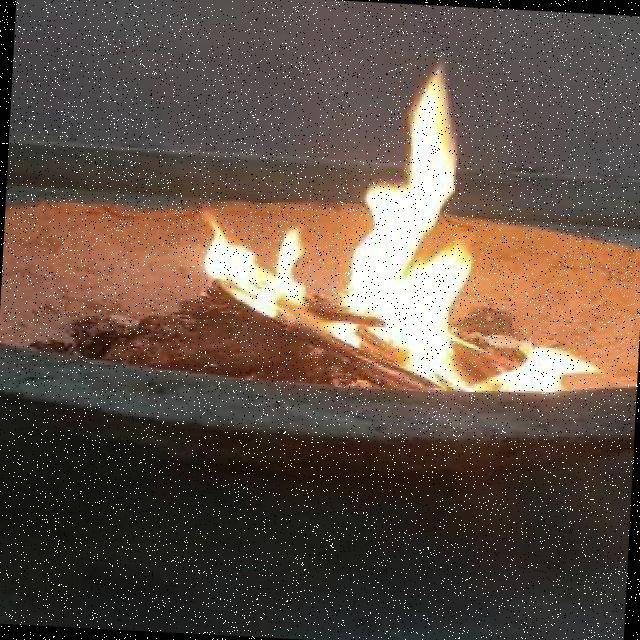Fire: (195, 40, 608, 404)
